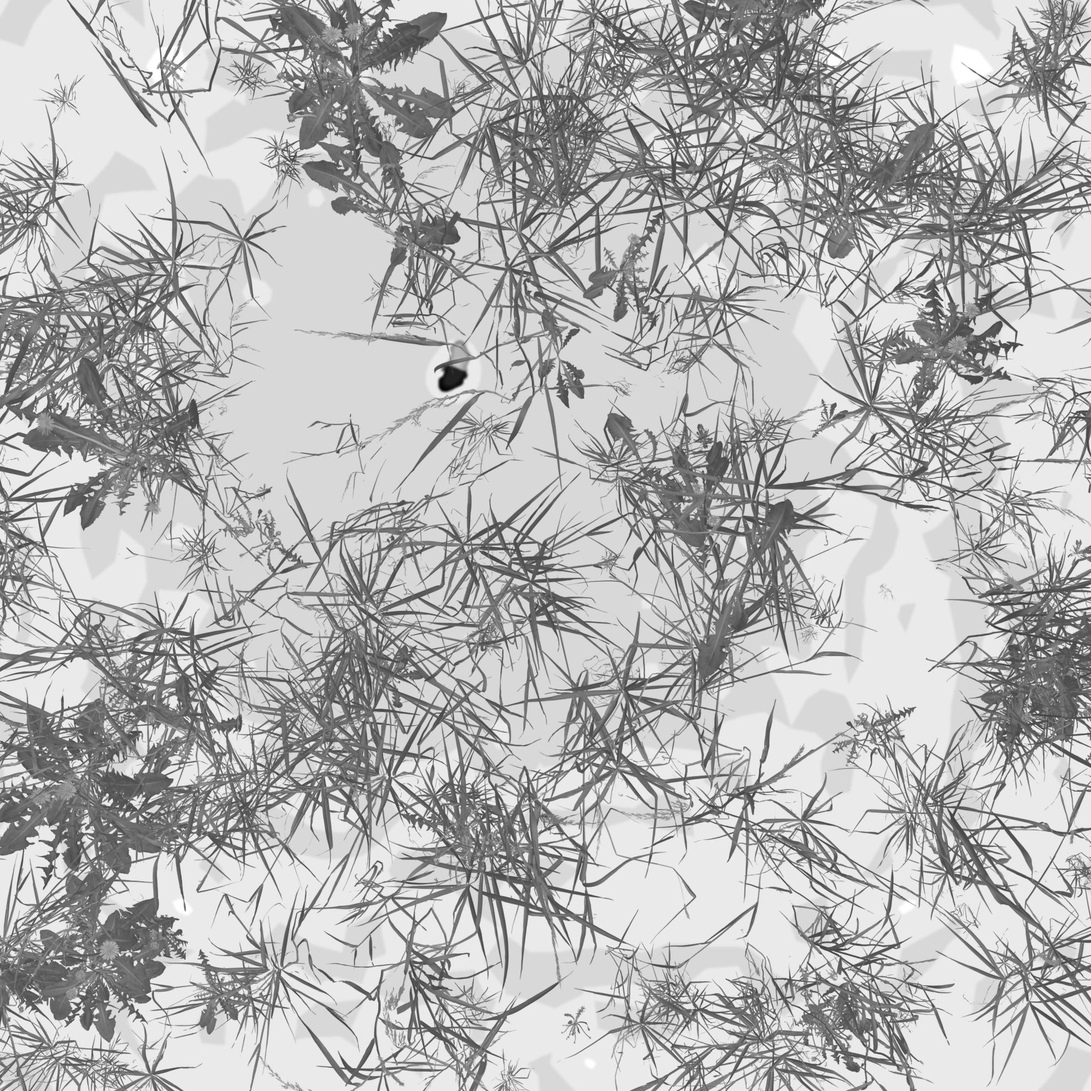landmine: (433, 340, 471, 392)
